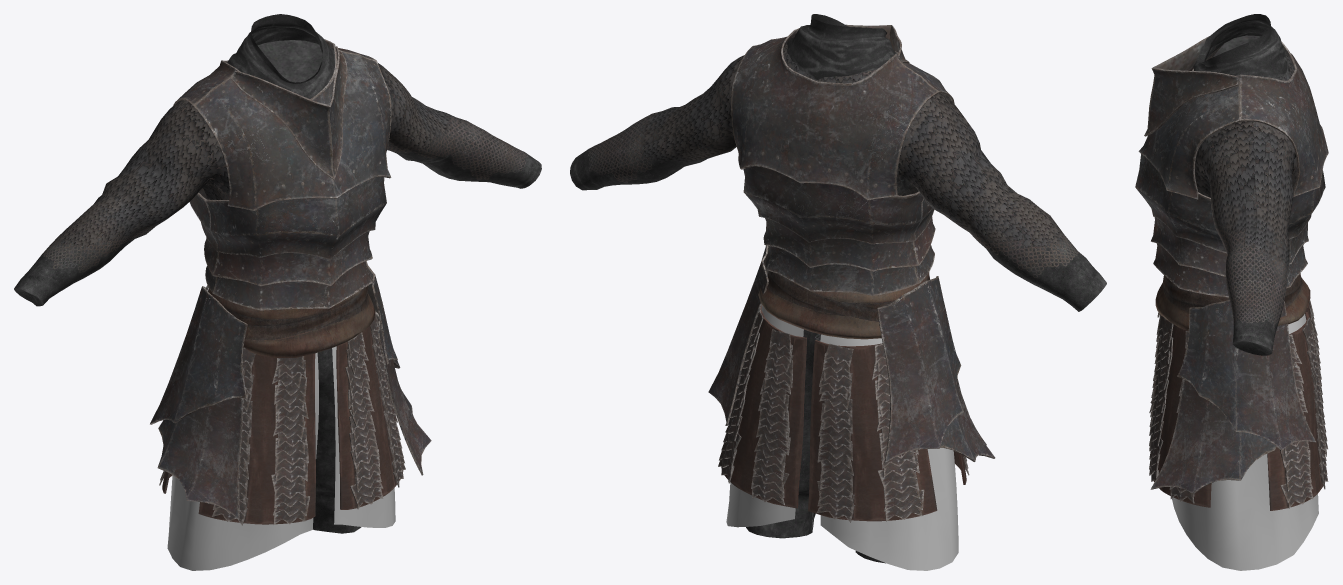
The model's file is sk_dg_uruk_chest_elite_b.fbx.
The picture shows the model from 3 angles, left to right: view 1: azimuth 30°, elevation 25°; view 2: azimuth 150°, elevation 25°; view 3: azimuth 270°, elevation 25°; orthographic projection. The views are drawn at different scales.
Parts seen in each view (by area): view 1: sk_dg_uruk_chest_elite_b.2, sk_dg_uruk_chest_elite_b.1, sk_dg_uruk_chest_elite_b.skirt.1, sk_dg_uruk_chest_elite_b.skirt.2, sk_dg_uruk_chest_elite_b.skirt.0, sk_dg_uruk_chest_elite_b.0; view 2: sk_dg_uruk_chest_elite_b.2, sk_dg_uruk_chest_elite_b.1, sk_dg_uruk_chest_elite_b.skirt.1, sk_dg_uruk_chest_elite_b.skirt.2, sk_dg_uruk_chest_elite_b.skirt.0, sk_dg_uruk_chest_elite_b.0; view 3: sk_dg_uruk_chest_elite_b.2, sk_dg_uruk_chest_elite_b.1, sk_dg_uruk_chest_elite_b.skirt.2, sk_dg_uruk_chest_elite_b.skirt.1, sk_dg_uruk_chest_elite_b.skirt.0, sk_dg_uruk_chest_elite_b.0.
Part boxes in pixels (<box>): sk_dg_uruk_chest_elite_b.2: <box>173,39,391,310</box>; sk_dg_uruk_chest_elite_b.1: <box>14,40,541,358</box>; sk_dg_uruk_chest_elite_b.skirt.1: <box>159,313,405,525</box>; sk_dg_uruk_chest_elite_b.skirt.2: <box>150,261,431,519</box>; sk_dg_uruk_chest_elite_b.skirt.0: <box>167,346,395,570</box>; sk_dg_uruk_chest_elite_b.0: <box>227,14,361,533</box>; sk_dg_uruk_chest_elite_b.2: <box>731,24,954,295</box>; sk_dg_uruk_chest_elite_b.1: <box>570,43,1106,339</box>; sk_dg_uruk_chest_elite_b.skirt.1: <box>718,305,969,522</box>; sk_dg_uruk_chest_elite_b.skirt.2: <box>708,245,995,462</box>; sk_dg_uruk_chest_elite_b.skirt.0: <box>726,305,958,570</box>; sk_dg_uruk_chest_elite_b.0: <box>746,14,896,563</box>; sk_dg_uruk_chest_elite_b.2: <box>1135,36,1328,297</box>; sk_dg_uruk_chest_elite_b.1: <box>1155,35,1310,355</box>; sk_dg_uruk_chest_elite_b.skirt.2: <box>1150,300,1315,493</box>; sk_dg_uruk_chest_elite_b.skirt.1: <box>1149,300,1328,510</box>; sk_dg_uruk_chest_elite_b.skirt.0: <box>1159,314,1318,570</box>; sk_dg_uruk_chest_elite_b.0: <box>1193,14,1289,78</box>.
Size of the model in its own units: 1.35 by 0.4491 by 1.28.
